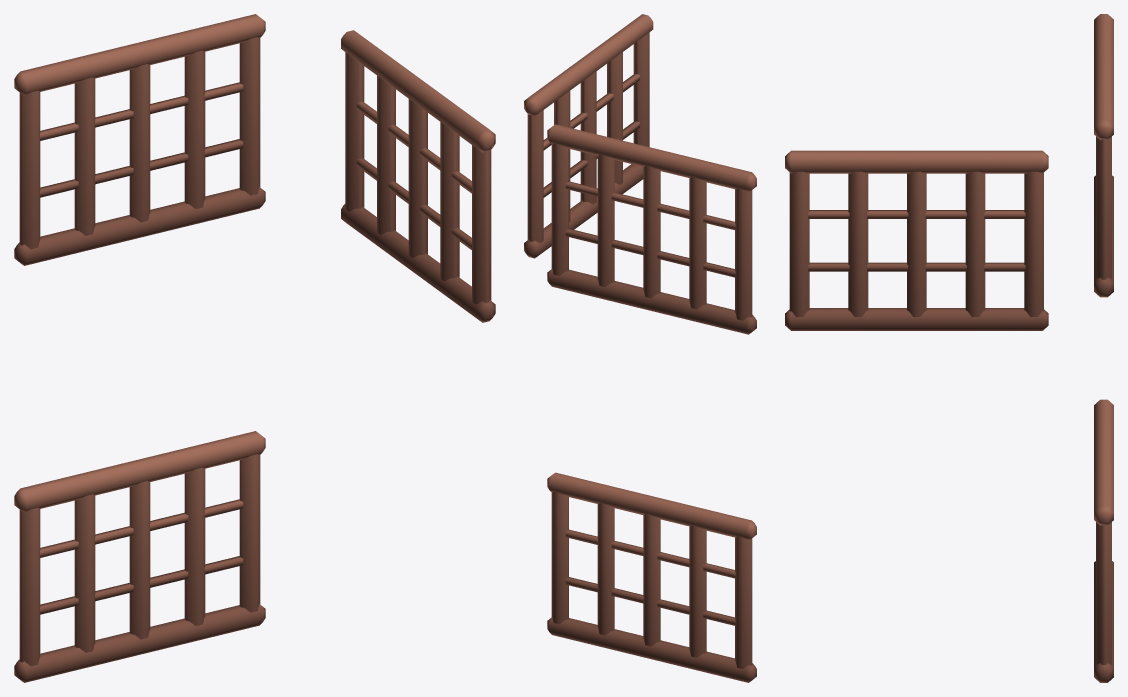
Rendered from SM_Wood_Window_07.fbx.
3 views of the same model, side by side, from view 1: azimuth 30°, elevation 25°; view 2: azimuth 150°, elevation 25°; view 3: azimuth 270°, elevation 25° (orthographic). The views are drawn at different scales.
Parts seen in each view (by area): view 1: SM_Wood_Window_07; view 2: SM_Wood_Window_07; view 3: SM_Wood_Window_07.
Part boxes in pixels (box(x1,y1,x2,y2)): SM_Wood_Window_07: box(14, 14, 495, 682); SM_Wood_Window_07: box(524, 14, 756, 682); SM_Wood_Window_07: box(785, 14, 1113, 682).
Size of the model in its own units: 0.7772 by 1.46 by 0.7726.
